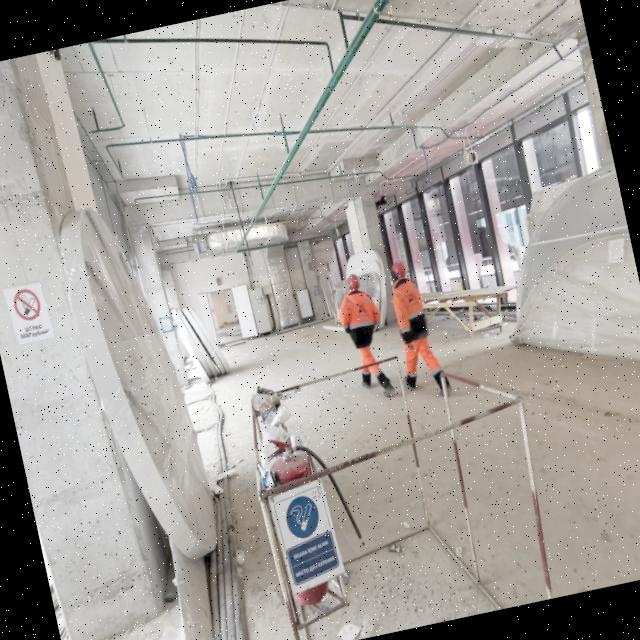Helmet: (391, 259, 410, 283), (346, 273, 363, 294)
